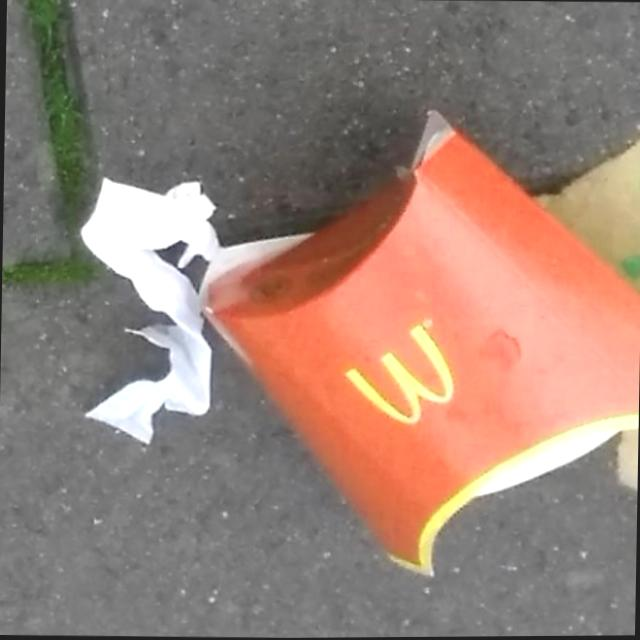Paper: (187, 92, 640, 594), (71, 171, 221, 451)
